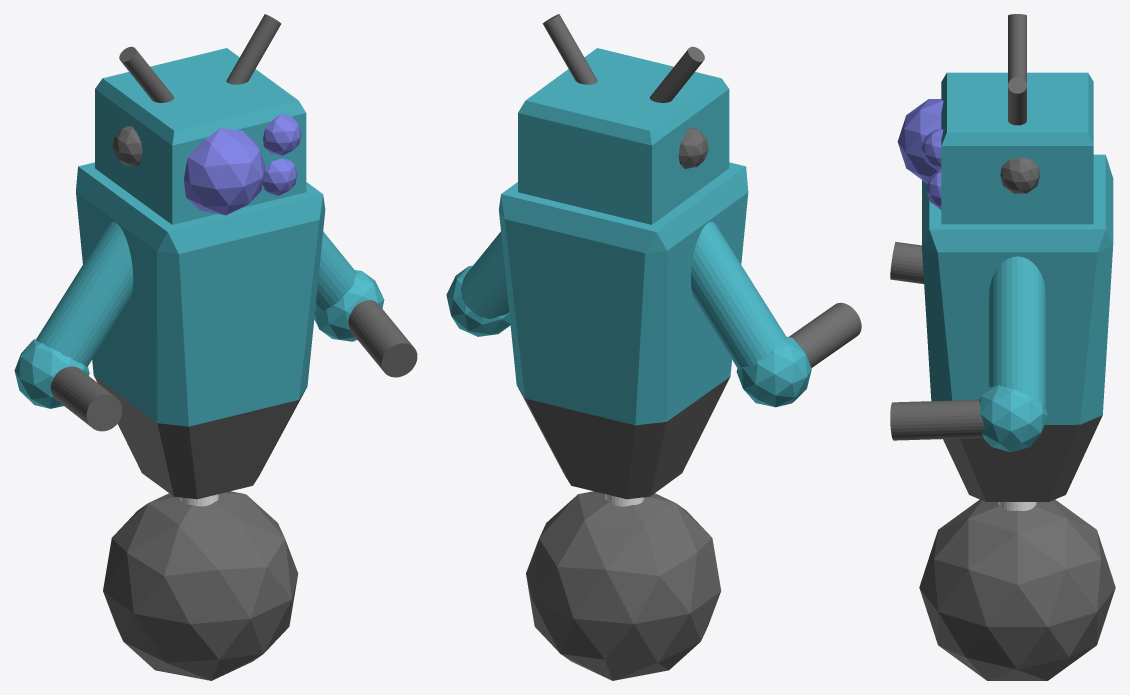
Rendered from janitorRobt.fbx.
3 renders of one model, left to right at view 1: azimuth 30°, elevation 25°; view 2: azimuth 150°, elevation 25°; view 3: azimuth 270°, elevation 25°, orthographic.
Parts seen in each view (by area): view 1: Cube, Icosphere, Cylinder.002, Icosphere.001, Cylinder.001, Cylinder.003, Icosphere.005, Icosphere.004, Cylinder, Cylinder.005, Cylinder.004, Icosphere.002 (+2 smaller); view 2: Cube, Icosphere, Cylinder.002, Icosphere.005, Cylinder, Cylinder.003, Icosphere.004, Cylinder.005, Cylinder.004, Icosphere.007; view 3: Cube, Icosphere, Cylinder, Cylinder.001, Icosphere.004, Icosphere.001, Cylinder.004, Cylinder.003, Icosphere.006, Cylinder.005, Icosphere.002, Icosphere.003.
Part boxes in pixels (left/top/right/bottom): Cube: left=76, top=48, right=325, bottom=499; Icosphere: left=103, top=491, right=298, bottom=680; Cylinder.002: left=36, top=222, right=133, bottom=366; Icosphere.001: left=183, top=128, right=265, bottom=215; Cylinder.001: left=348, top=300, right=417, bottom=377; Cylinder.003: left=50, top=366, right=122, bottom=431; Icosphere.005: left=14, top=339, right=89, bottom=408; Icosphere.004: left=314, top=270, right=384, bottom=341; Cylinder: left=315, top=232, right=356, bottom=311; Cylinder.005: left=226, top=14, right=281, bottom=84; Cylinder.004: left=119, top=46, right=174, bottom=102; Icosphere.002: left=263, top=114, right=301, bottom=155; Cube: left=498, top=48, right=748, bottom=499; Icosphere: left=526, top=491, right=721, bottom=680; Cylinder.002: left=691, top=221, right=786, bottom=369; Icosphere.005: left=736, top=336, right=811, bottom=407; Cylinder: left=461, top=231, right=508, bottom=318; Cylinder.003: left=789, top=302, right=861, bottom=367; Icosphere.004: left=446, top=265, right=510, bottom=336; Cylinder.005: left=542, top=14, right=597, bottom=84; Cylinder.004: left=649, top=46, right=704, bottom=102; Icosphere.007: left=678, top=128, right=708, bottom=168; Cube: left=922, top=72, right=1113, bottom=501; Icosphere: left=919, top=499, right=1115, bottom=680; Cylinder: left=988, top=256, right=1046, bottom=408; Cylinder.001: left=890, top=399, right=983, bottom=440; Icosphere.004: left=979, top=385, right=1047, bottom=452; Icosphere.001: left=897, top=99, right=943, bottom=183; Cylinder.004: left=1008, top=14, right=1026, bottom=83; Cylinder.003: left=890, top=242, right=923, bottom=283; Icosphere.006: left=1000, top=157, right=1039, bottom=193; Cylinder.005: left=1008, top=77, right=1026, bottom=125; Icosphere.002: left=921, top=129, right=943, bottom=169; Icosphere.003: left=926, top=169, right=941, bottom=209.
Size of the model in its own units: 414 by 709 by 230.
